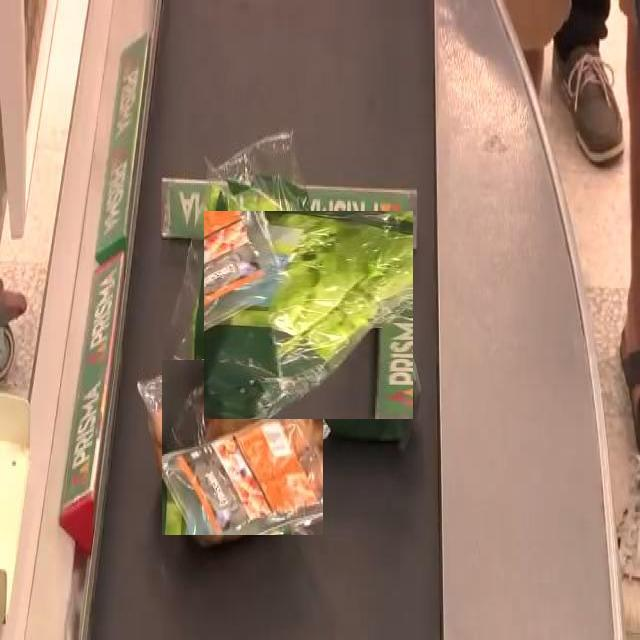food-box: (203, 211, 413, 420), (161, 359, 323, 535)
